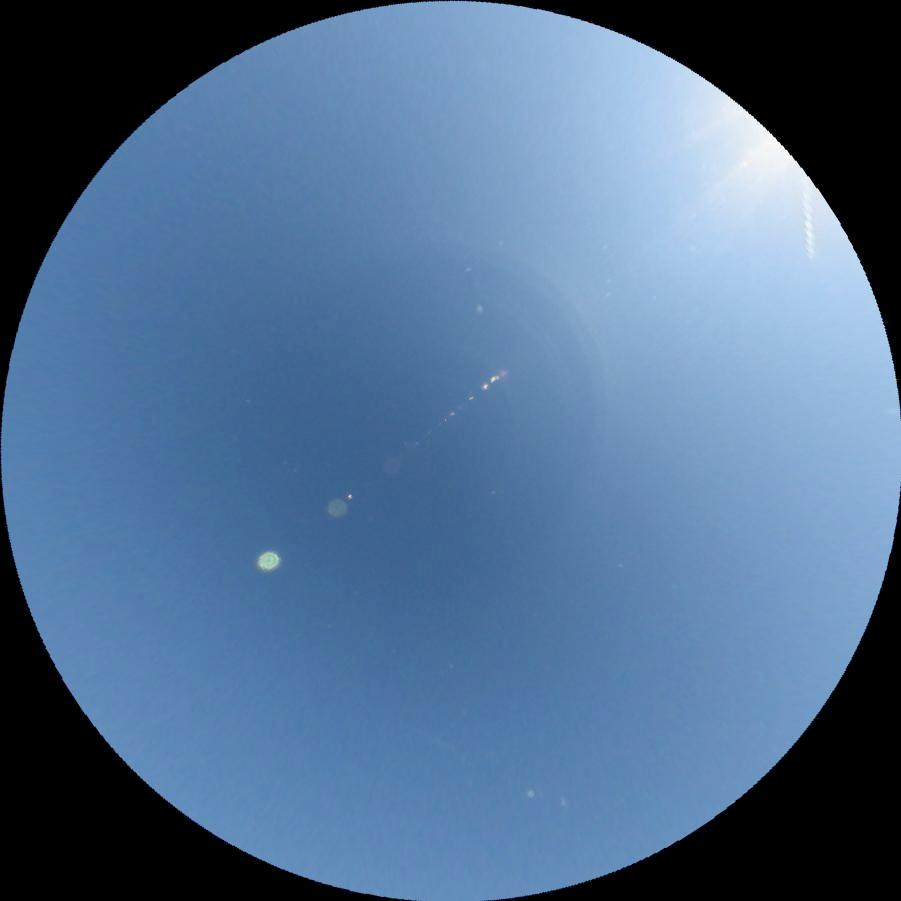contrail young: (797, 174, 818, 265), (409, 726, 457, 751)
